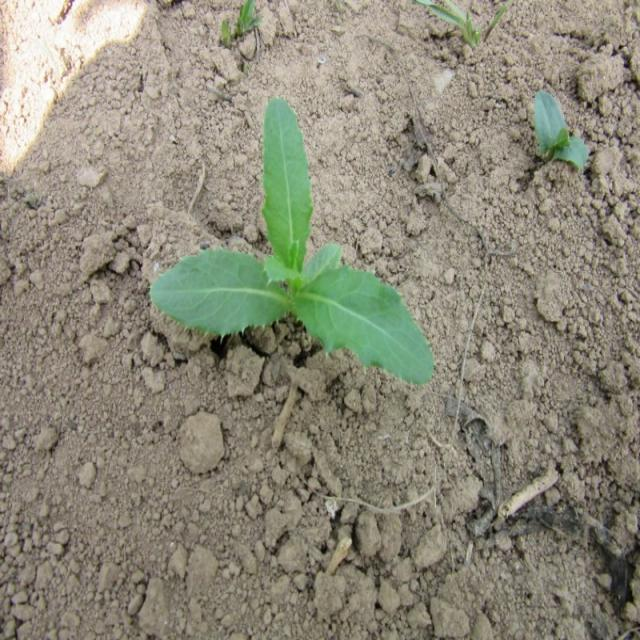cs: (150, 94, 439, 390)
